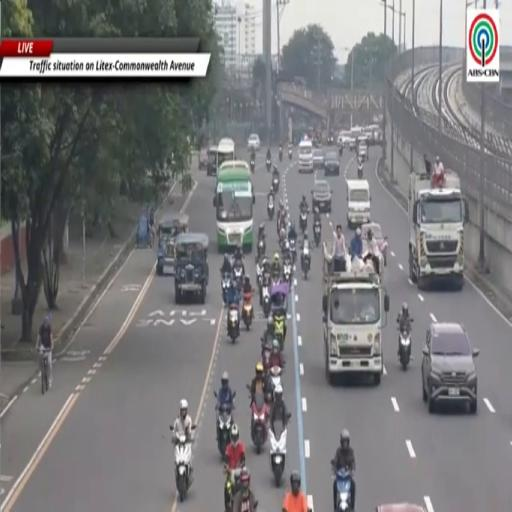bus: (214, 160, 255, 252), (217, 138, 235, 169)
car: (422, 323, 479, 413), (361, 222, 387, 265), (312, 181, 332, 213), (376, 503, 425, 511), (324, 150, 339, 175), (357, 136, 368, 161), (337, 131, 350, 148), (313, 149, 324, 169), (248, 134, 260, 151), (199, 148, 208, 170), (327, 133, 335, 146)
jeepney: (175, 233, 209, 303), (156, 214, 188, 276), (207, 147, 217, 175)
motorcycle: (174, 432, 191, 502), (250, 392, 268, 454), (269, 425, 287, 487), (224, 464, 243, 511), (218, 404, 233, 457), (335, 469, 352, 511), (398, 326, 411, 371), (224, 466, 236, 511), (273, 313, 285, 351), (228, 304, 239, 343), (242, 293, 253, 330), (301, 246, 311, 280), (232, 265, 244, 290), (269, 366, 282, 389), (222, 272, 231, 305), (262, 340, 271, 371), (262, 286, 270, 316), (313, 220, 321, 246), (256, 259, 263, 287), (277, 215, 287, 234), (257, 238, 266, 259), (283, 262, 292, 283), (289, 238, 296, 264), (267, 196, 274, 220), (300, 211, 307, 234), (272, 175, 279, 194), (271, 270, 281, 283), (358, 164, 363, 179), (250, 159, 255, 172), (266, 158, 270, 171), (279, 148, 282, 162), (339, 146, 342, 156), (289, 149, 292, 159)
truck: (322, 246, 389, 385), (408, 170, 468, 290)
